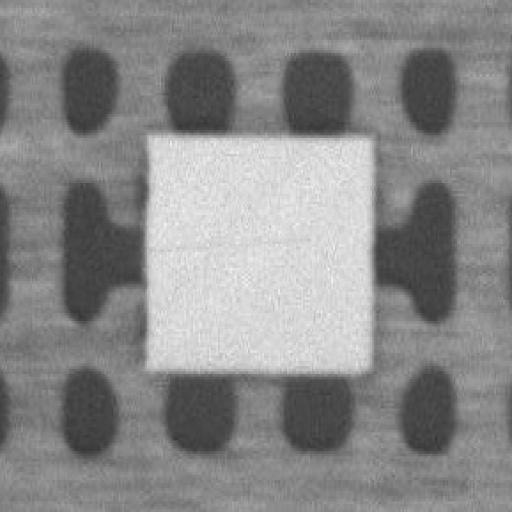DIE_CRACK: (220, 158, 459, 164)
